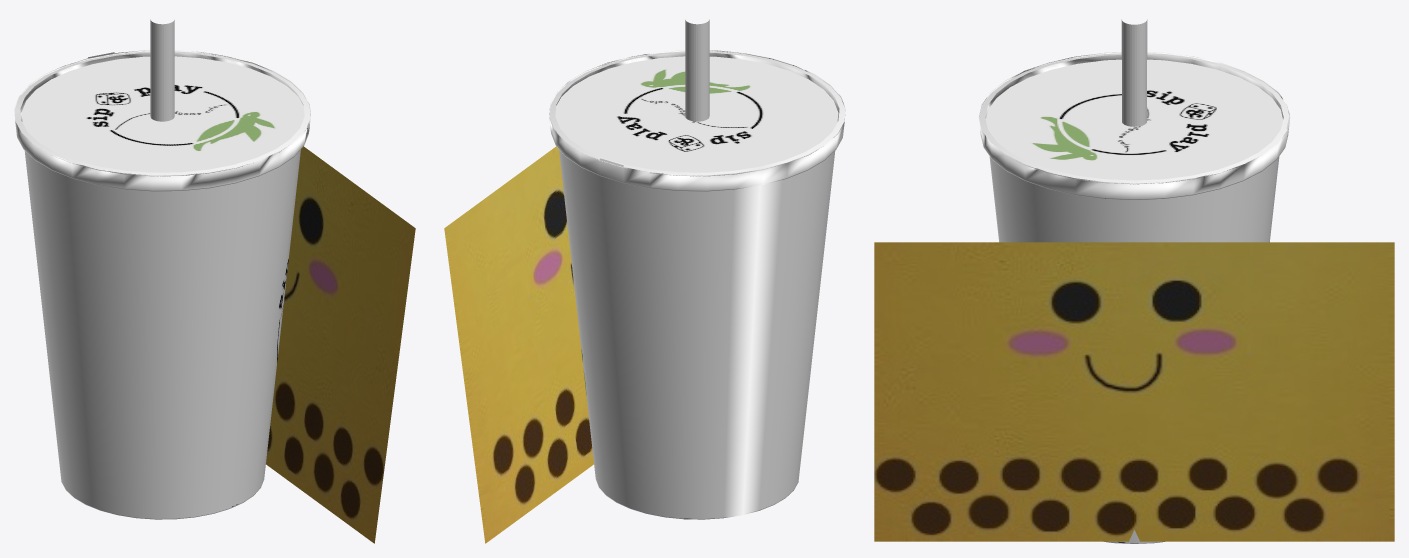
File: cup-with-lid.glb
The picture shows the model from 3 angles, left to right: view 1: azimuth 30°, elevation 25°; view 2: azimuth 150°, elevation 25°; view 3: azimuth 270°, elevation 25°; orthographic projection. The views are drawn at different scales.
Parts seen in each view (by area): view 1: Cup, smileyfaceboba, Straw; view 2: Cup, smileyfaceboba, Straw; view 3: smileyfaceboba, Cup, Straw.
Boxes of the visible parts, left/top/right/bottom form: Cup: left=14, top=50, right=310, bottom=519; smileyfaceboba: left=266, top=146, right=415, bottom=543; Straw: left=150, top=19, right=174, bottom=121; Cup: left=549, top=50, right=845, bottom=519; smileyfaceboba: left=444, top=146, right=593, bottom=543; Straw: left=685, top=19, right=709, bottom=121; smileyfaceboba: left=874, top=242, right=1394, bottom=541; Cup: left=978, top=52, right=1290, bottom=543; Straw: left=1121, top=19, right=1147, bottom=126.
Size of the model in its own units: 2.09 by 3.55 by 3.49.
2 materials, 2 textured.
